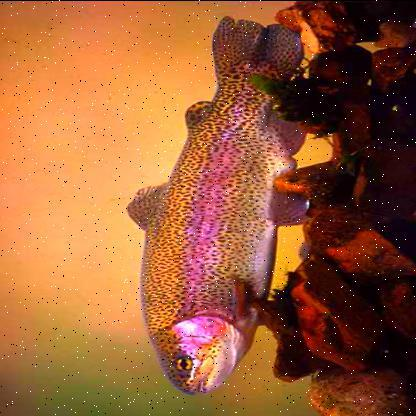fish: (124, 15, 314, 395)
